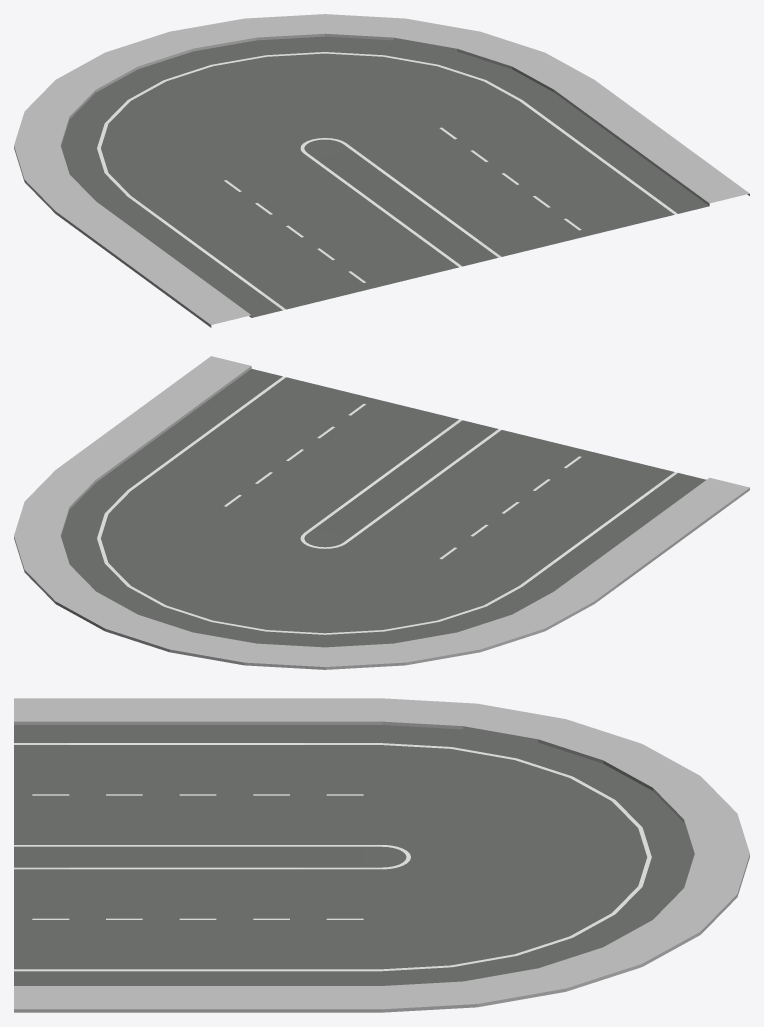
The model's file is Double_U_Turn.fbx.
The picture shows the model from 3 angles, top to bottom: view 1: azimuth 30°, elevation 25°; view 2: azimuth 150°, elevation 25°; view 3: azimuth 270°, elevation 25°; orthographic projection. The views are drawn at different scales.
Parts seen in each view (by area): view 1: Plane; view 2: Plane; view 3: Plane.
Boxes of the visible parts, box(x1,y1,x2,y2) form: Plane: box(14, 14, 749, 327); Plane: box(14, 356, 749, 669); Plane: box(14, 698, 749, 1012).
Size of the model in its own units: 30 by 0.15 by 30.
